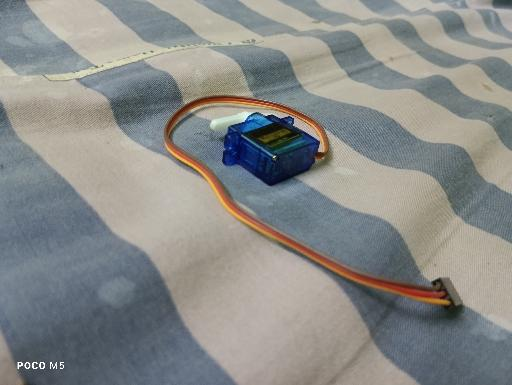Motor: (209, 109, 322, 188)
